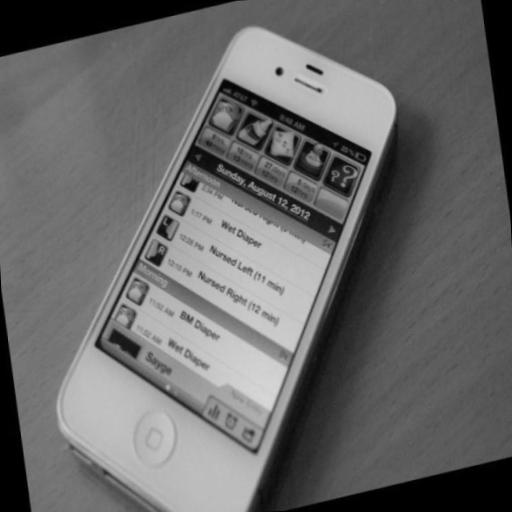phone: (56, 23, 403, 512)
